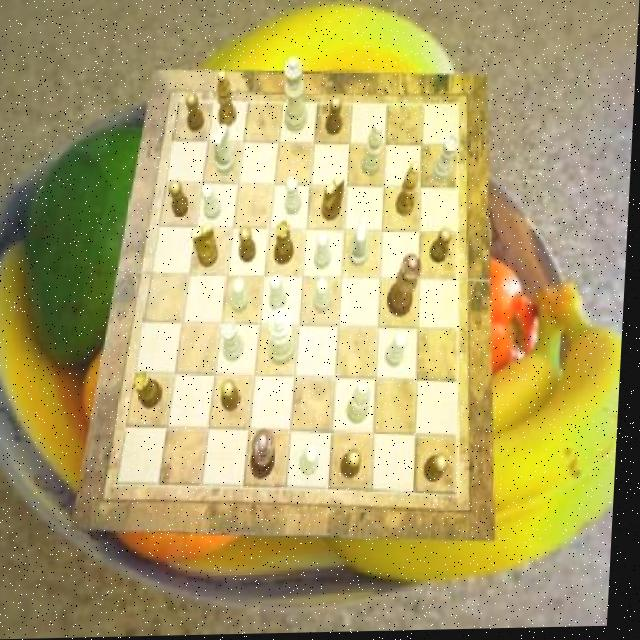bishop: (396, 163, 421, 218), (217, 71, 240, 129)
black-bishop: (254, 430, 281, 482)
black-king: (192, 224, 221, 270), (322, 175, 346, 222)
black-knight: (185, 93, 207, 134), (170, 181, 192, 219), (432, 231, 455, 266), (241, 226, 260, 264), (327, 97, 345, 136), (223, 382, 244, 415), (428, 457, 453, 484), (344, 450, 366, 480)
black-pawn: (389, 255, 425, 318)
black-queen: (135, 371, 168, 410), (275, 222, 297, 267)
black-rook: (361, 124, 384, 178), (350, 384, 375, 426)
white-bishop: (270, 308, 299, 367)
white-king: (213, 125, 238, 176), (350, 220, 372, 269)
white-knight: (387, 334, 411, 369), (203, 185, 225, 222), (271, 276, 290, 313), (315, 233, 333, 271), (287, 179, 304, 217), (316, 279, 334, 314), (233, 280, 251, 315), (303, 446, 323, 477)
white-pawn: (282, 58, 311, 133)
white-queen: (434, 138, 460, 186), (222, 320, 247, 363)
